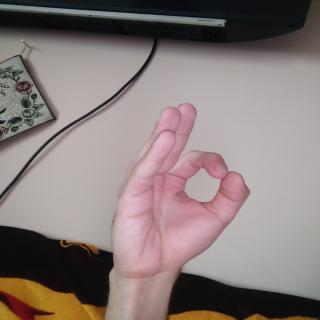Space: (113, 100, 256, 280)
